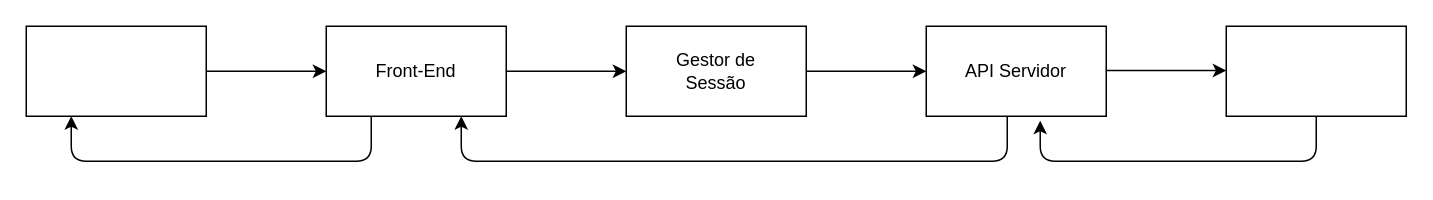
This 1433x200 diagram has some shape labels left out. Here are the shapes that lost their labels. From the top down, the centre of each, then its label:
At (x=115, y=70): "Cliente".
At (x=1315, y=70): "Gestor de Persistência".
